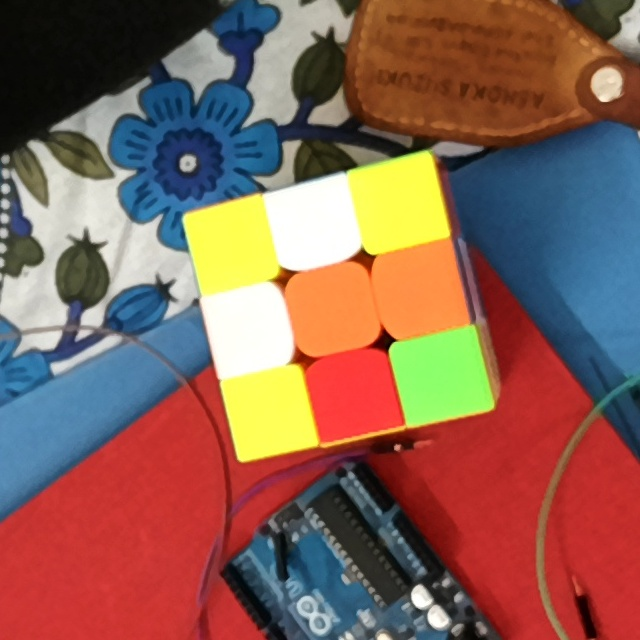tile: (386, 258, 454, 325), (365, 170, 435, 235), (296, 279, 367, 343), (404, 346, 476, 408), (214, 297, 281, 361), (319, 363, 387, 426), (235, 379, 300, 441), (199, 214, 263, 274), (281, 194, 344, 254)
